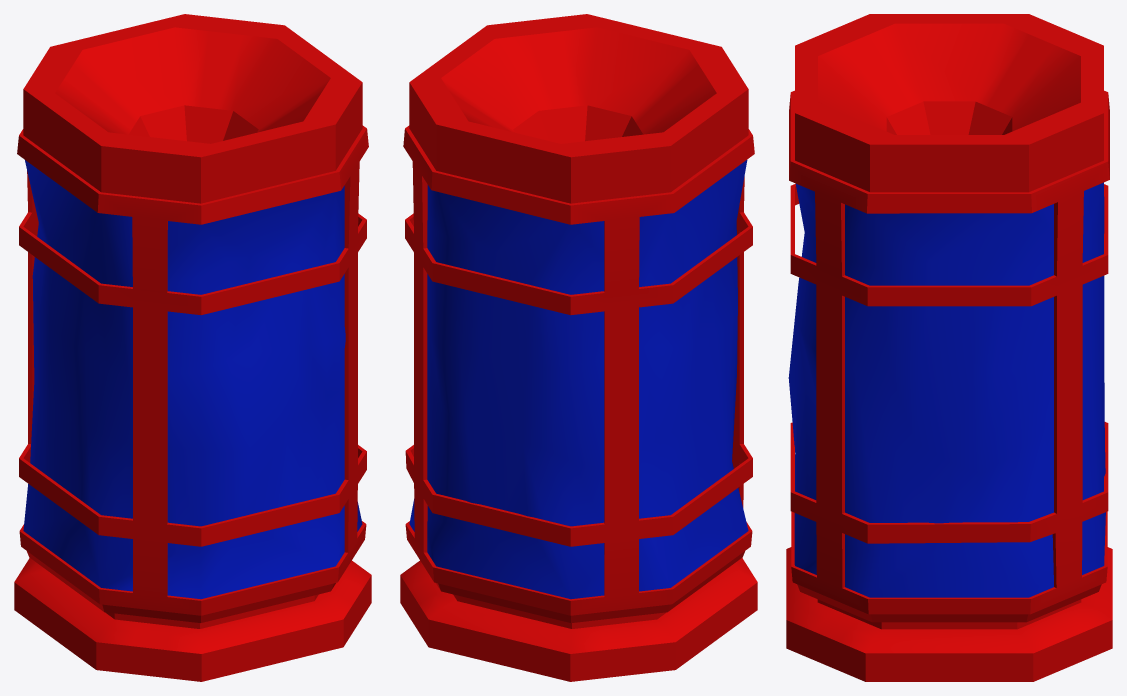
File: Rubbish_01a.fbx
The picture shows the model from 3 angles, left to right: view 1: azimuth 30°, elevation 25°; view 2: azimuth 150°, elevation 25°; view 3: azimuth 270°, elevation 25°; orthographic projection. The views are drawn at different scales.
Visible parts, largest first — view 1: Bin; view 2: Bin; view 3: Bin.
Part boxes in pixels (x1,y1,x2,y2): Bin: (14,14,371,681); Bin: (400,14,757,681); Bin: (786,14,1112,681).
Bounding box in the file's own units: 25.3 × 25.3 × 45.69.
